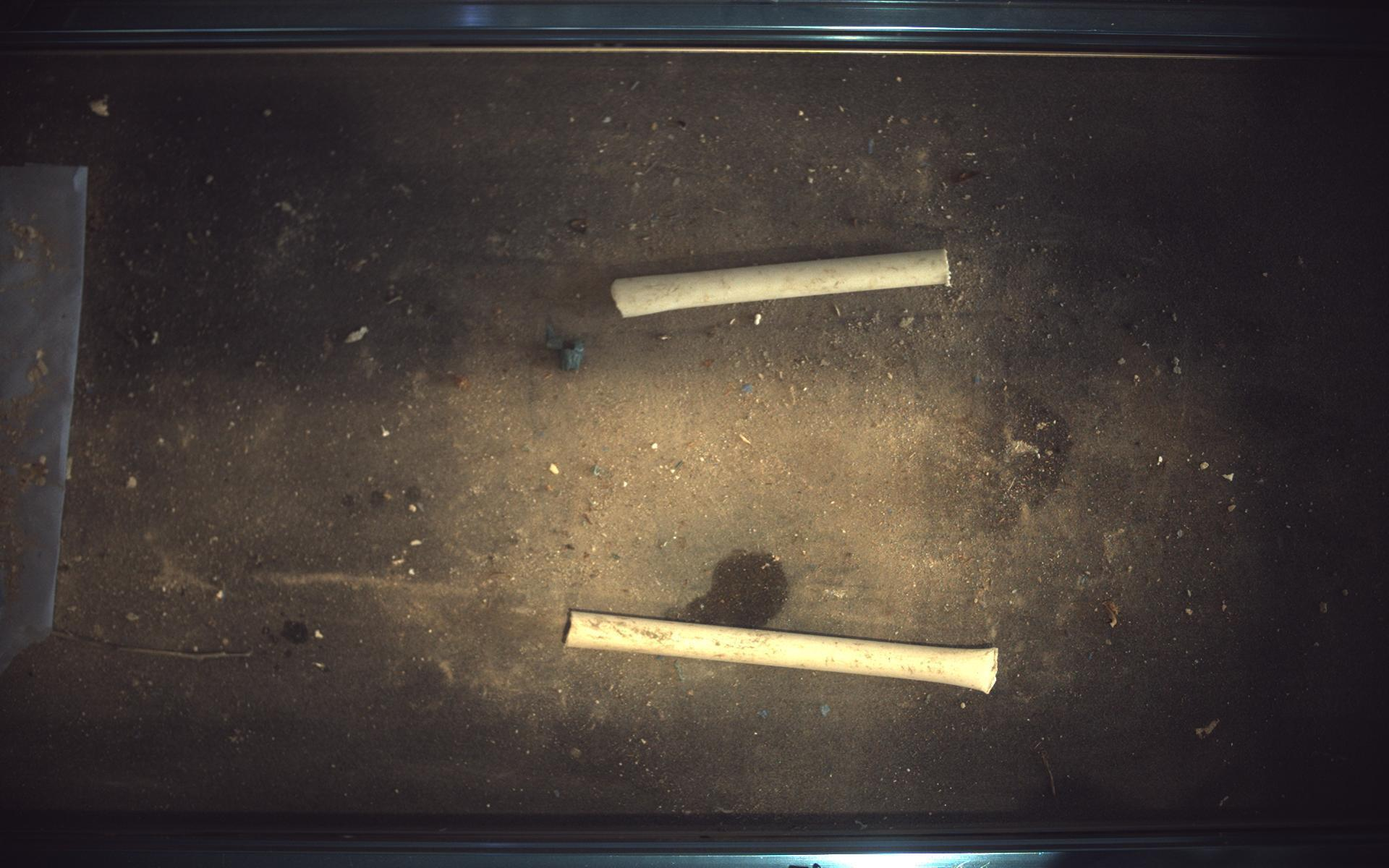pipes: (565, 611, 1001, 694), (612, 248, 952, 318)
